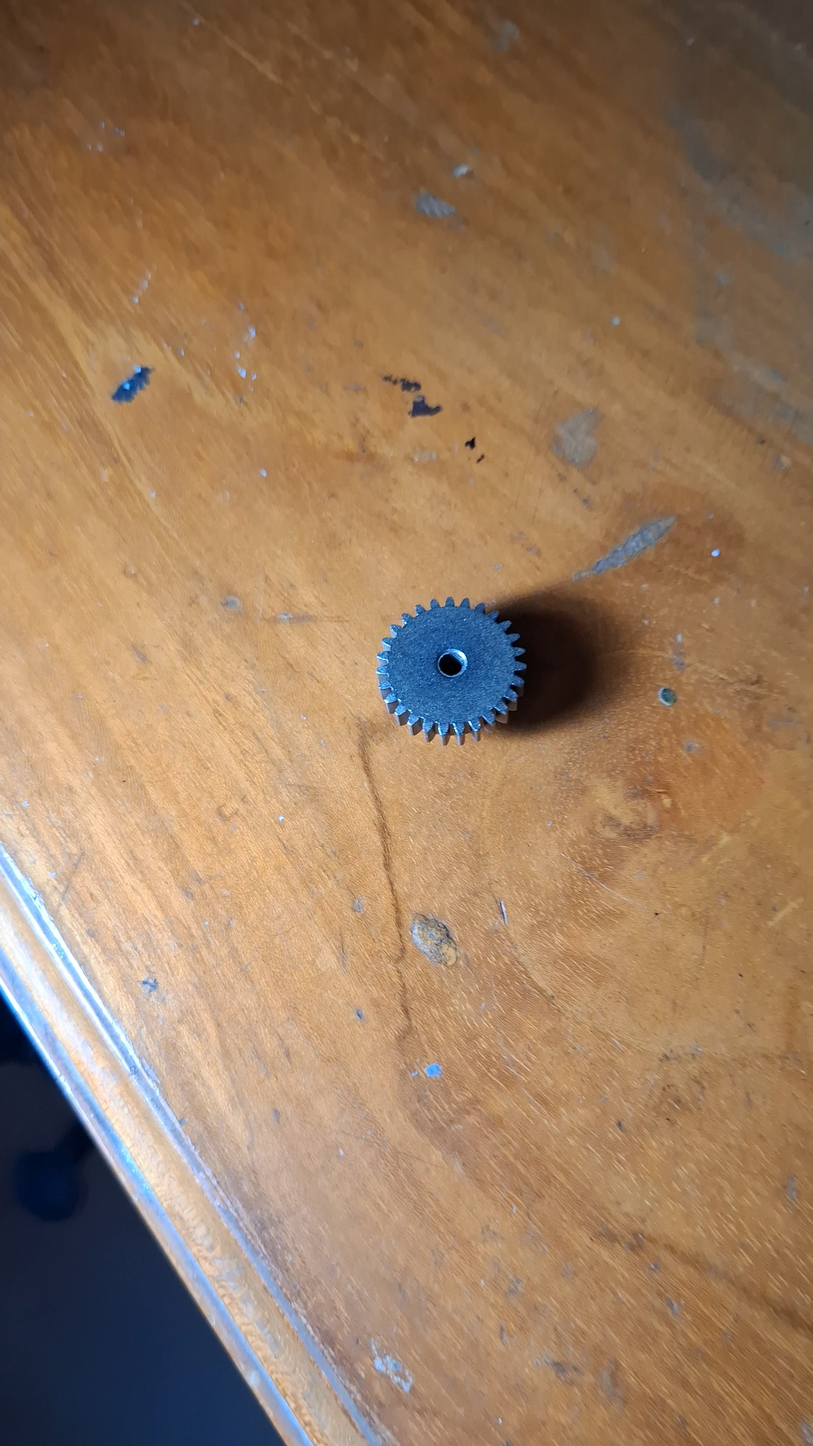spur gear: (377, 598, 525, 743)
